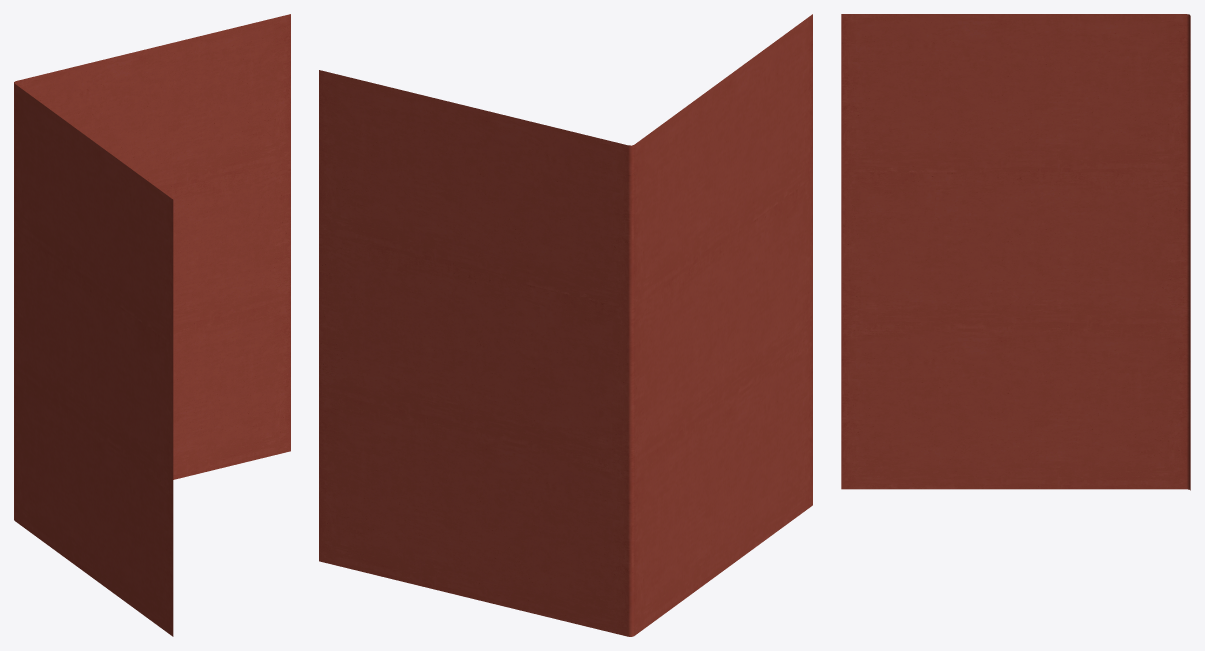
File: SM_dev_wall_corner_in_200_x_300.fbx
3 views of the same model, side by side, from view 1: azimuth 30°, elevation 25°; view 2: azimuth 150°, elevation 25°; view 3: azimuth 270°, elevation 25° (orthographic). The views are drawn at different scales.
Visible parts, largest first — view 1: pPlane76; view 2: pPlane76; view 3: pPlane76.
Boxes of the visible parts, <box> form: pPlane76: <box>14,14,290,636</box>; pPlane76: <box>319,14,812,636</box>; pPlane76: <box>841,14,1190,490</box>.
Bounding box in the file's own units: 2 × 3 × 2.
